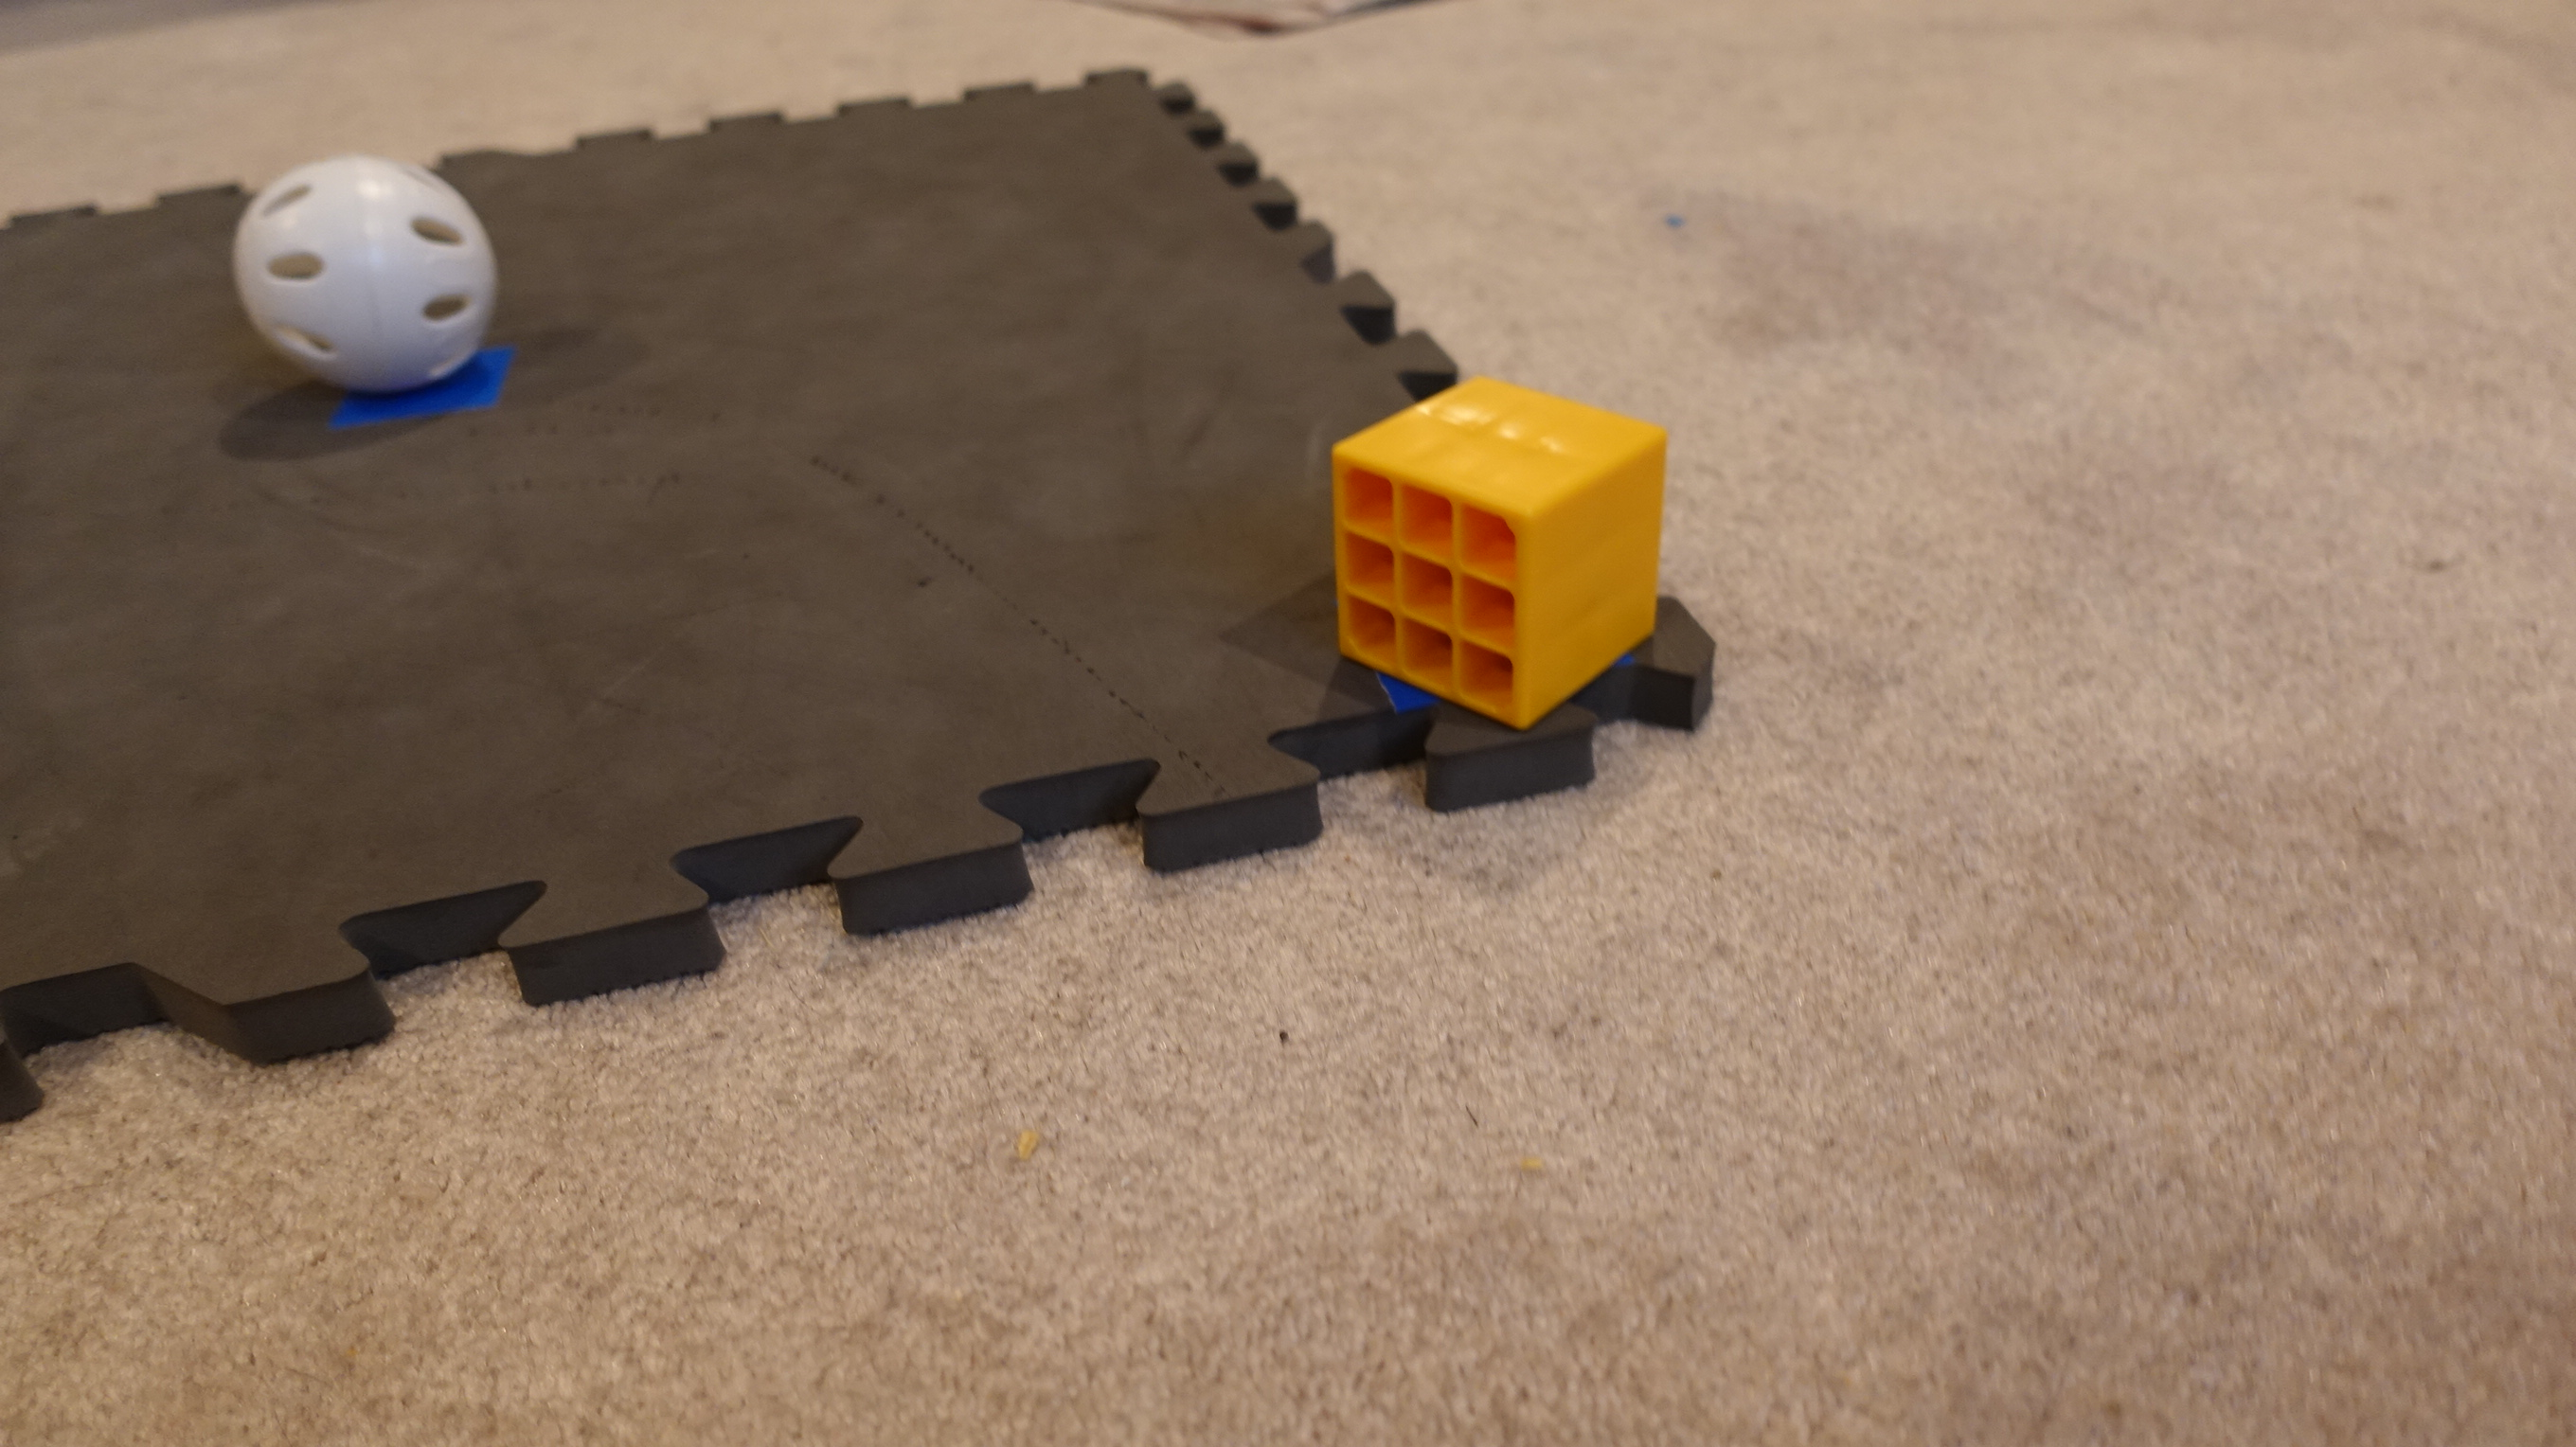gold: (1322, 368, 1670, 731)
silver: (230, 154, 504, 394)
